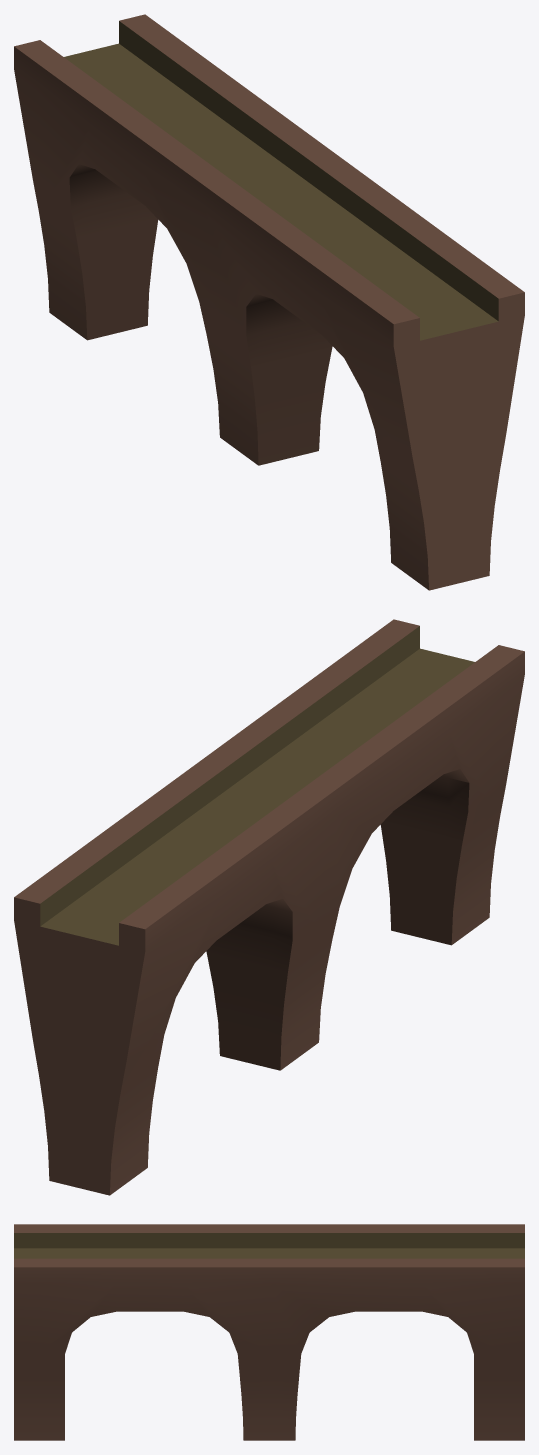
Rendered from aquaedukt.fbx.
3 renders of one model, top to bottom at view 1: azimuth 30°, elevation 25°; view 2: azimuth 150°, elevation 25°; view 3: azimuth 270°, elevation 25°, orthographic. The views are drawn at different scales.
Parts seen in each view (by area): view 1: aquaedukt; view 2: aquaedukt; view 3: aquaedukt.
Part boxes in pixels (left/top/right/bottom): aquaedukt: left=14, top=14, right=524, bottom=590; aquaedukt: left=14, top=619, right=524, bottom=1195; aquaedukt: left=14, top=1224, right=524, bottom=1440.
Bounding box in the file's own units: 200 × 399 × 1000.
